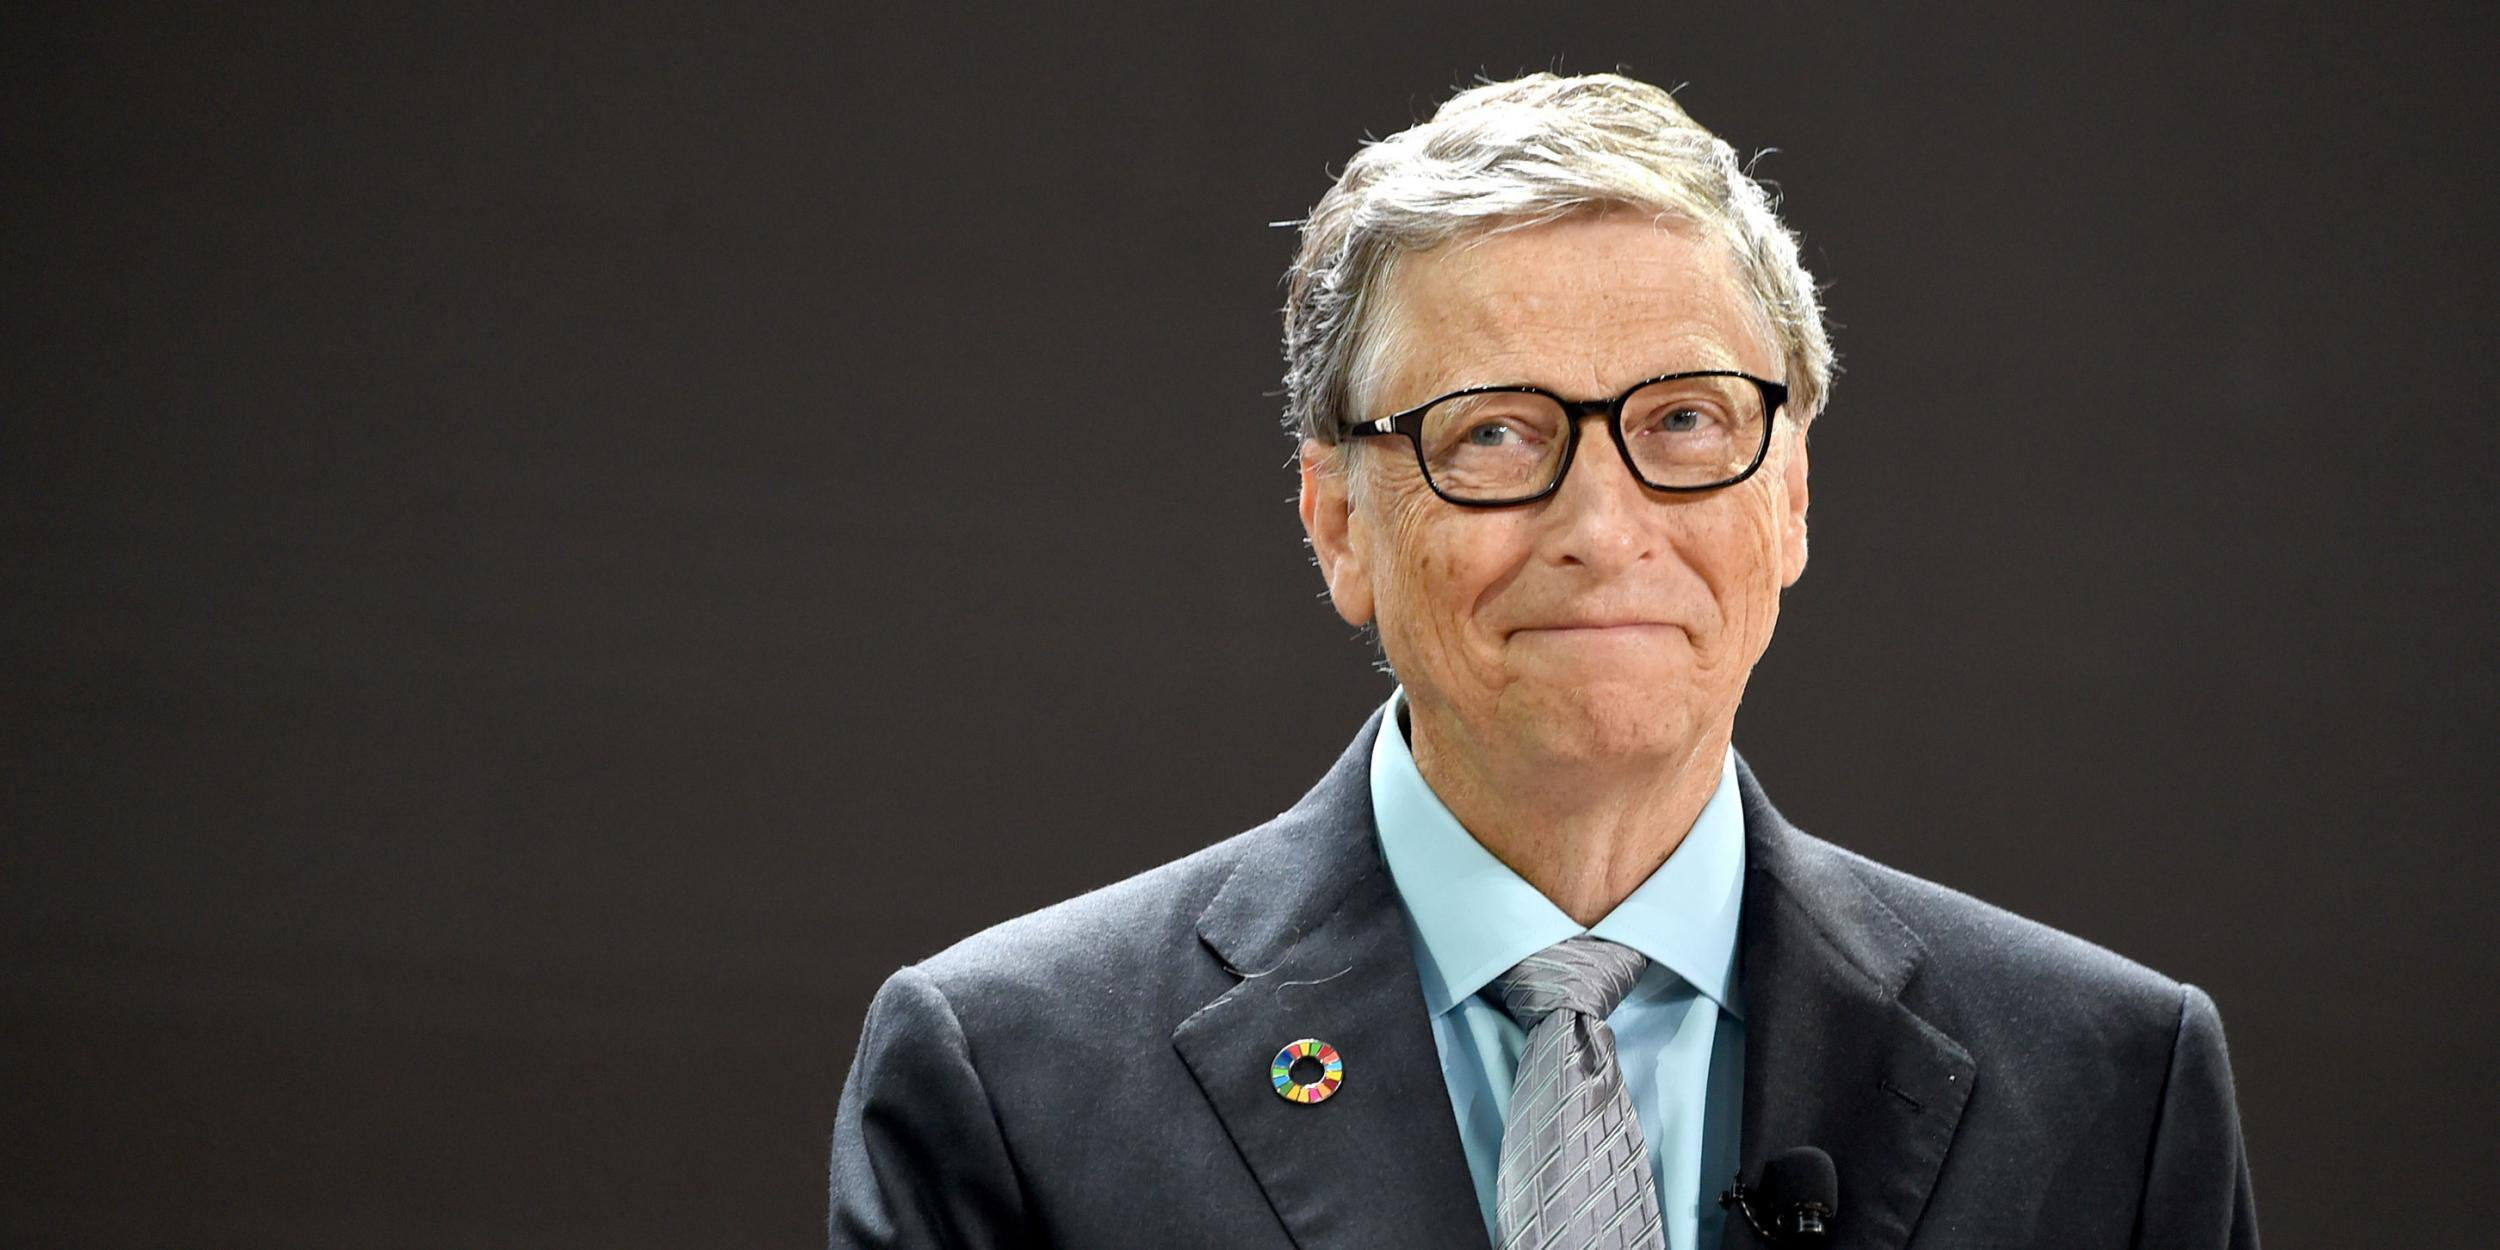noMask: (1234, 75, 1858, 791)
